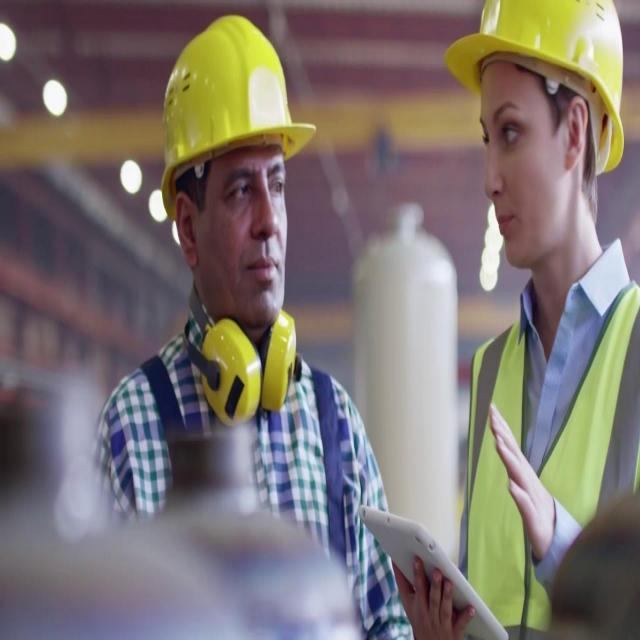Reflective-Jacket: (459, 273, 636, 639)
Safety-Helmet: (443, 0, 631, 171), (154, 12, 312, 192)
